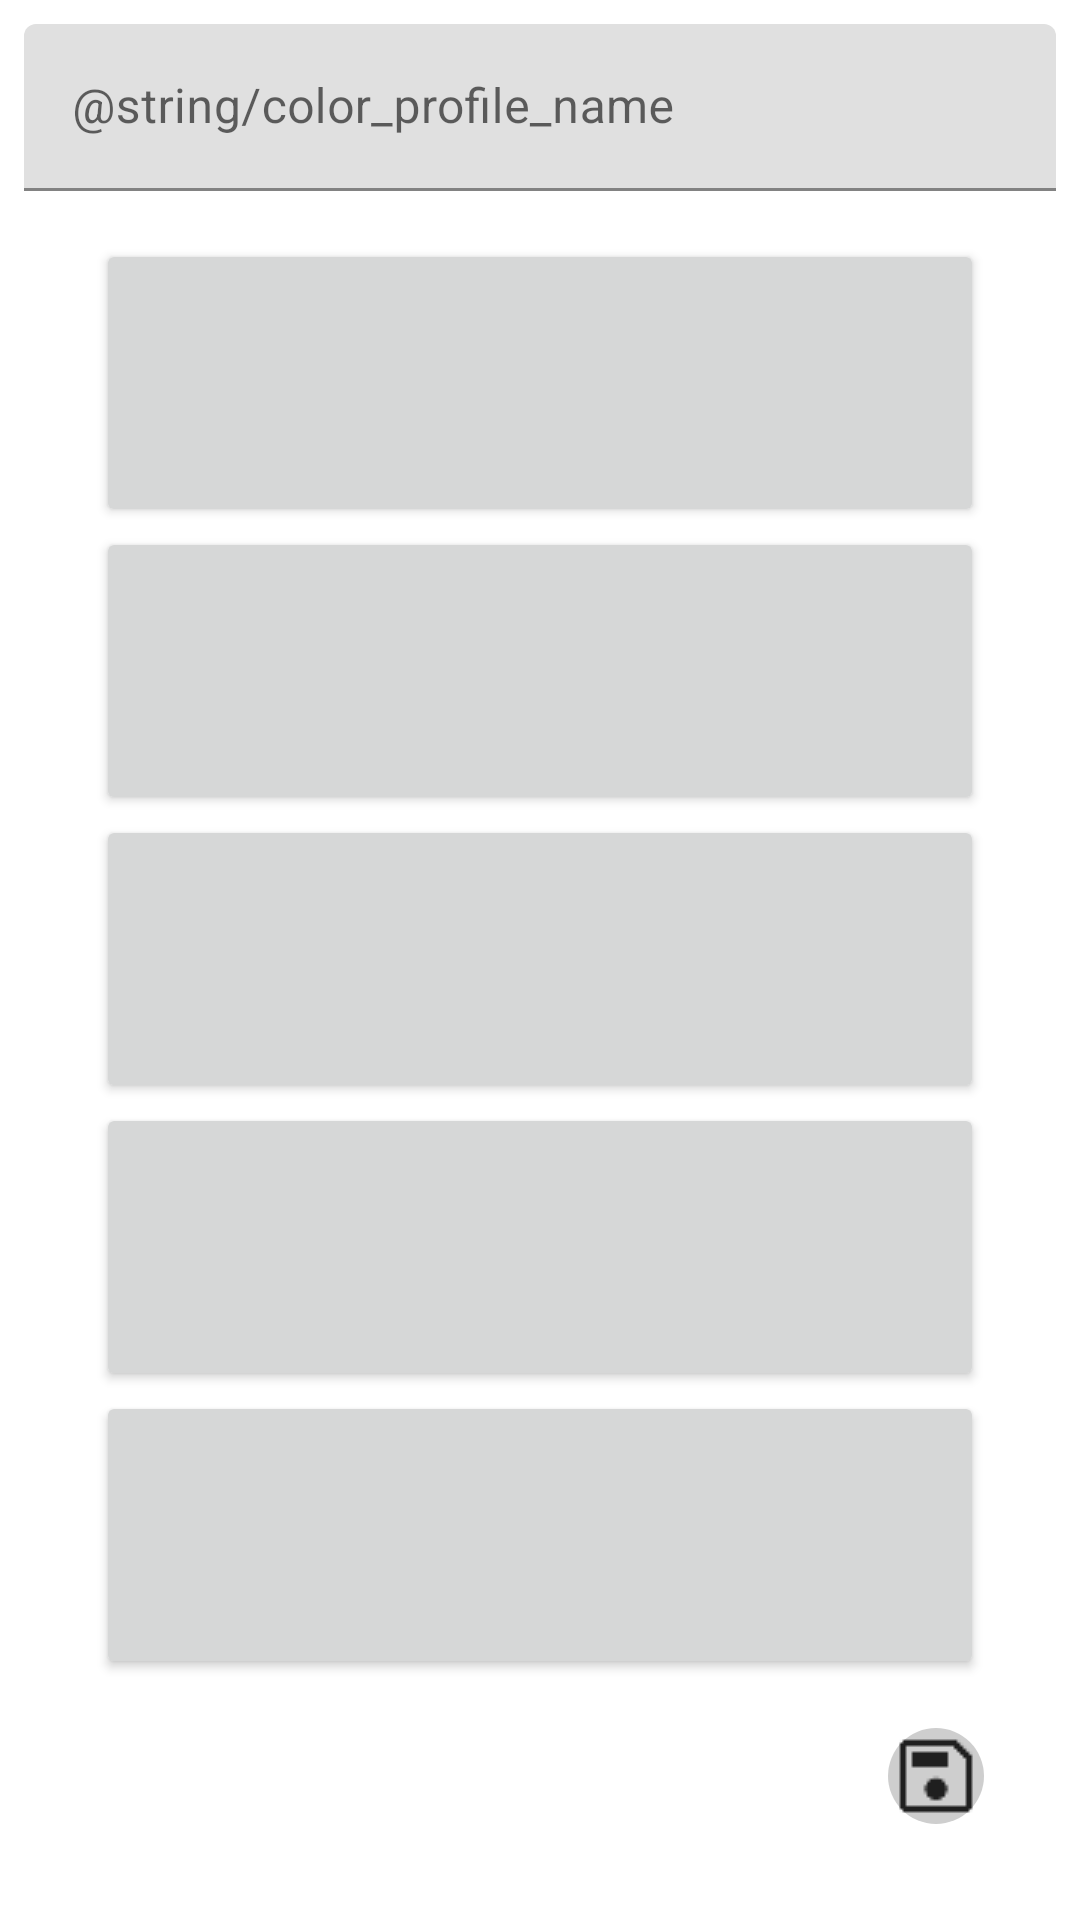

Screen size 1080 × 1920. Icon name, then its box in pixels as (x1, y1, x2, y2):
save: (888, 1728, 984, 1824)
